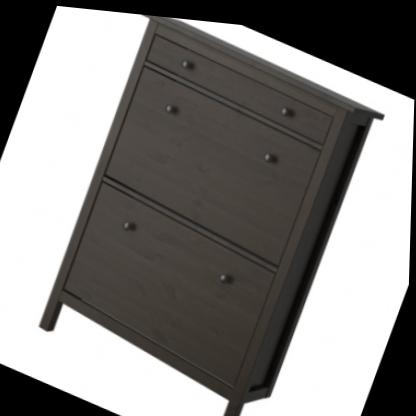Cabinet: (14, 2, 392, 416)
